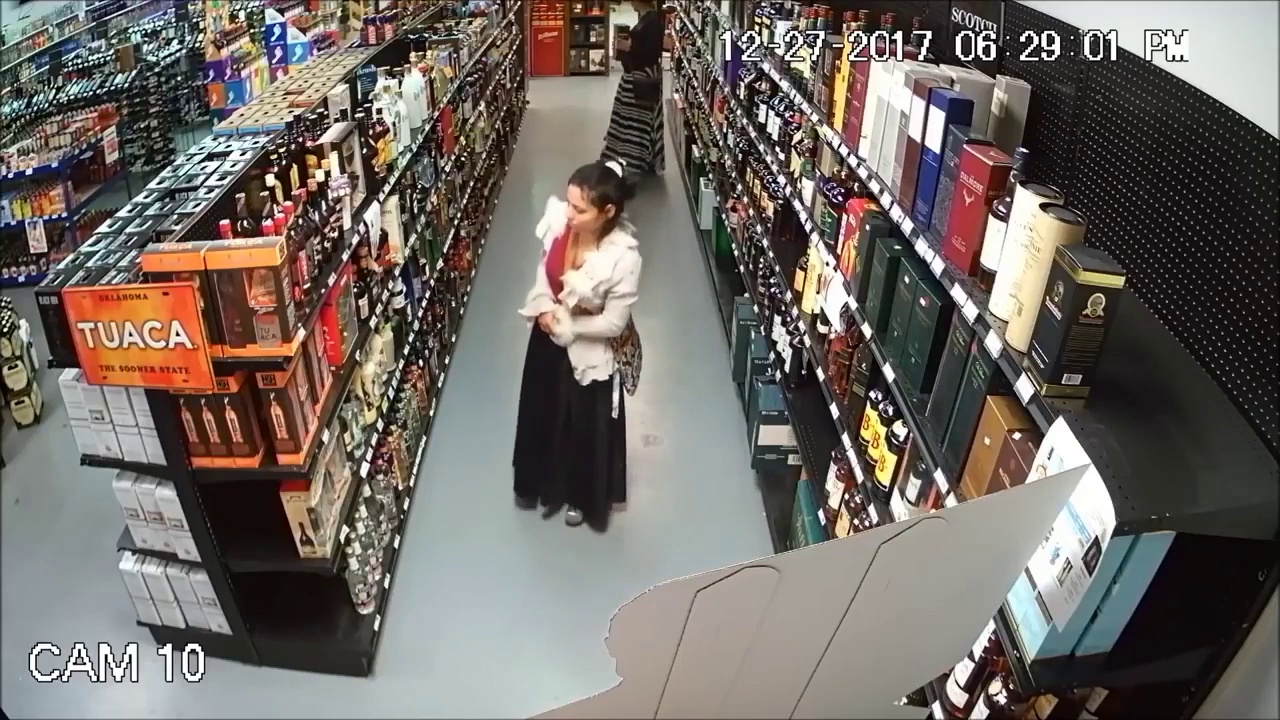face: (559, 171, 612, 243)
